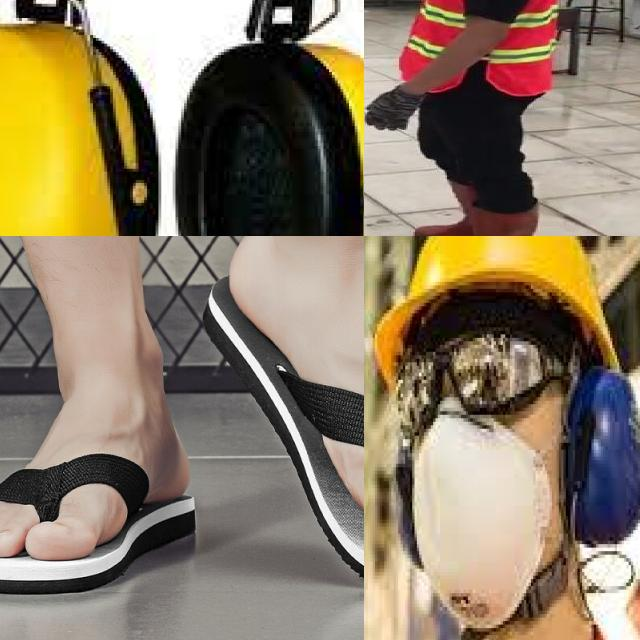Ear-protection: (0, 0, 364, 236), (382, 383, 640, 543)
Sandals: (0, 398, 198, 601), (253, 275, 364, 582)
boots: (409, 177, 515, 236), (417, 206, 536, 236)
person: (364, 0, 575, 236)
vest: (395, 0, 559, 95)
